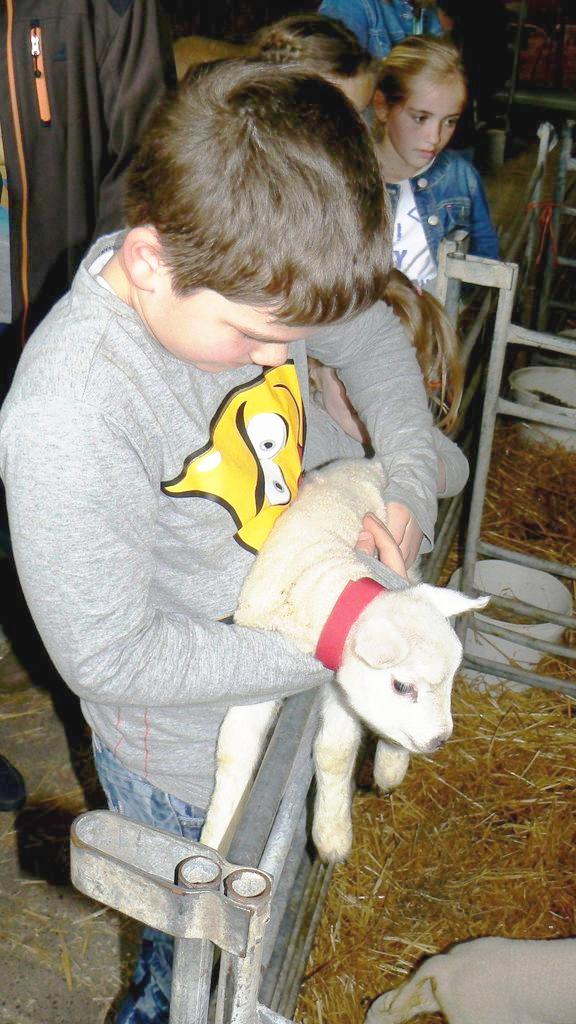Sheep: (210, 510, 454, 885)
